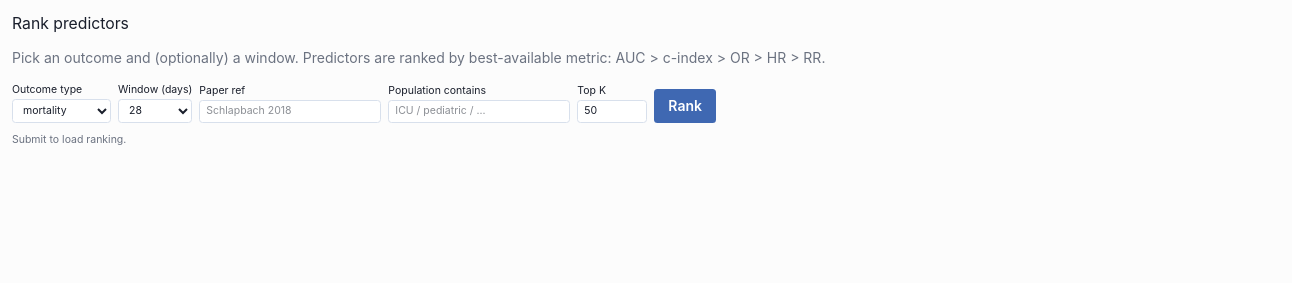
RankPage › renders fallback_note as a banner
This screenshot has width=1292, height=283.
Click the button "Rank": (685, 106) [654,89,716,123]
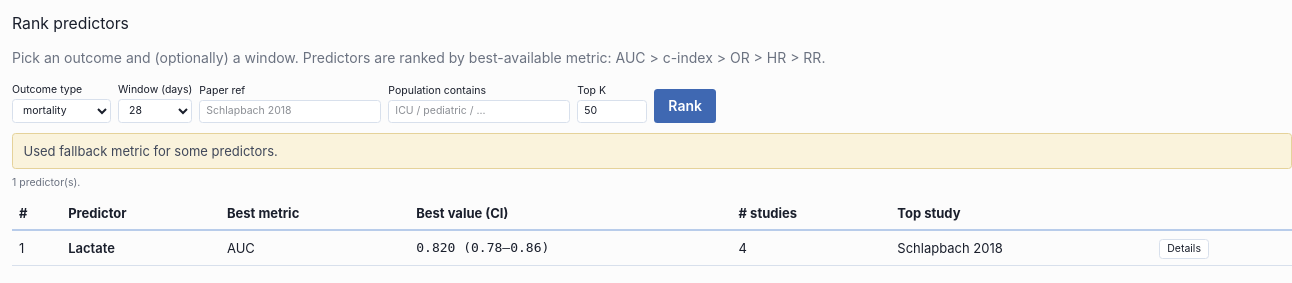
Result: the text "Used fallback metric for some predictors." is shown at [12,133,1291,169]
